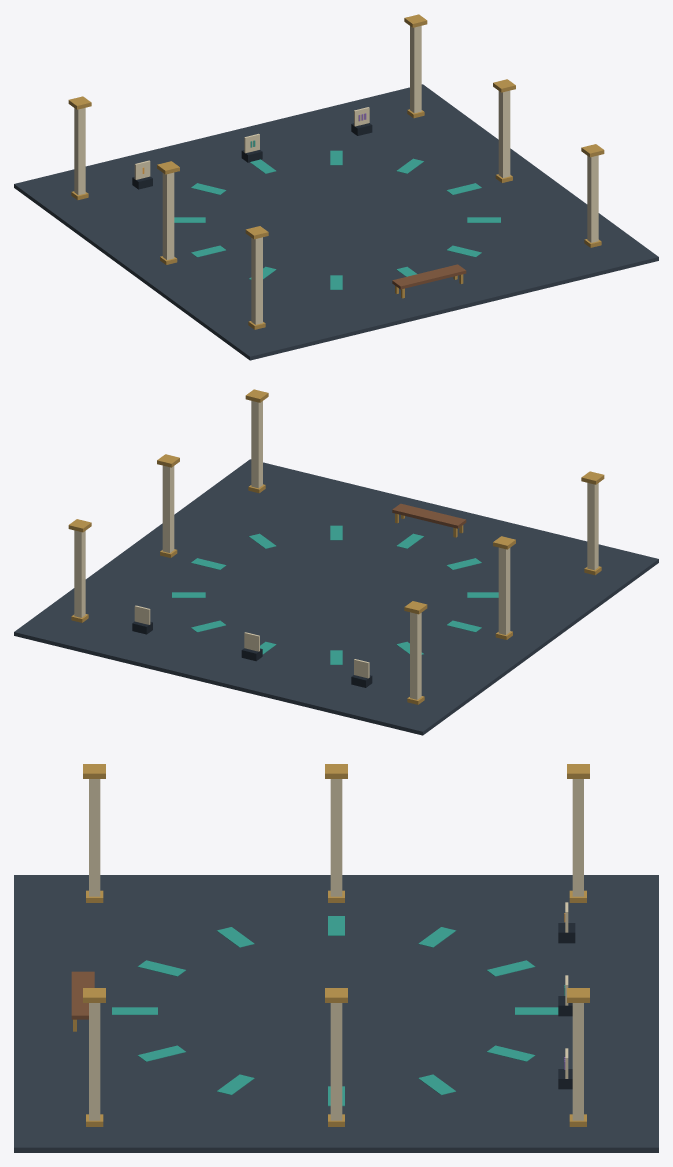
Rendered from heart_chamber.glb.
3 renders of one model, top to bottom at view 1: azimuth 30°, elevation 25°; view 2: azimuth 150°, elevation 25°; view 3: azimuth 270°, elevation 25°, orthographic. The views are drawn at different scales.
Visible parts, largest first — view 1: heart_chamber; view 2: heart_chamber; view 3: heart_chamber.
Part boxes in pixels (x1,y1,x2,y2): heart_chamber: (14, 14, 658, 360); heart_chamber: (14, 389, 658, 735); heart_chamber: (14, 764, 658, 1152).
Size of the model in its own units: 112 by 26 by 112.
